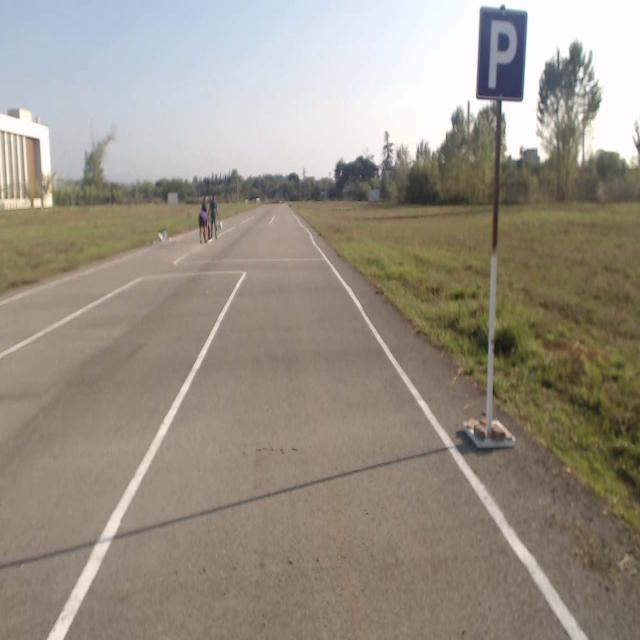park: (476, 5, 526, 103)
